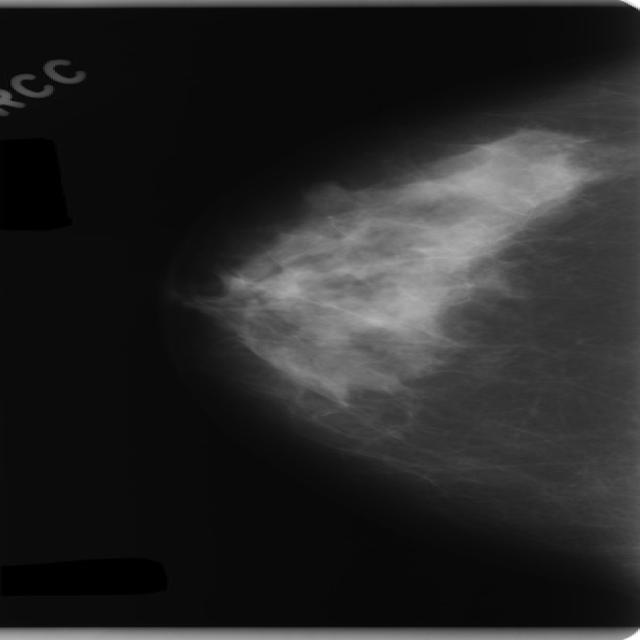tumour: (300, 182, 348, 210)
